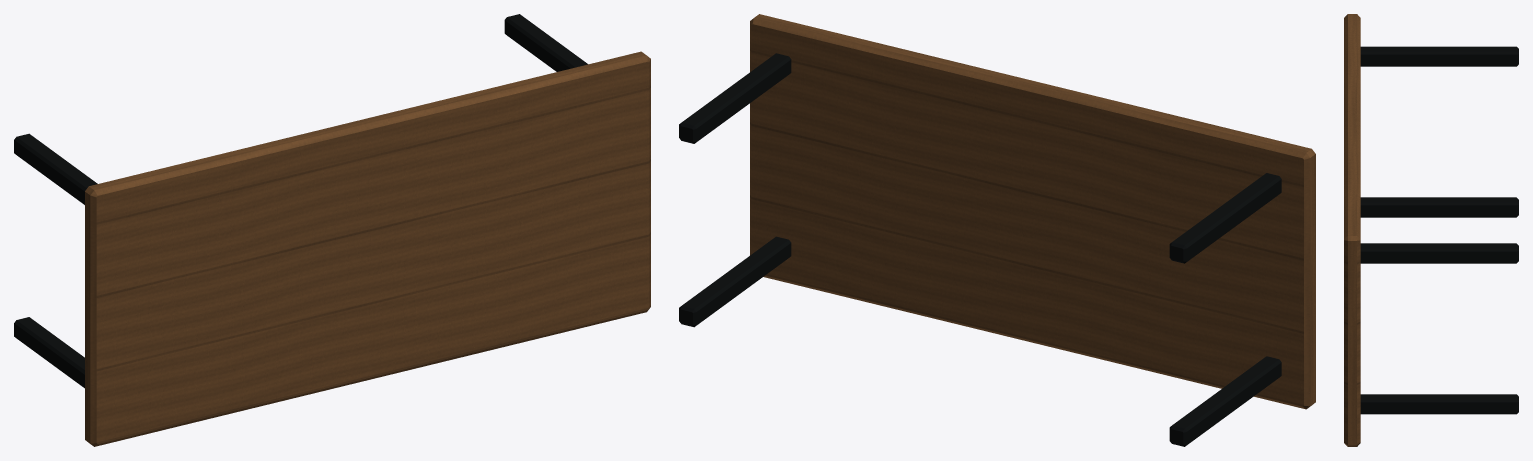
Rendered from dining_table.obj.
3 renders of one model, left to right at view 1: azimuth 30°, elevation 25°; view 2: azimuth 150°, elevation 25°; view 3: azimuth 270°, elevation 25°, orthographic. The views are drawn at different scales.
Visible parts, largest first — view 1: dining_table_oak, dining_table_frame; view 2: dining_table_oak, dining_table_frame; view 3: dining_table_frame, dining_table_oak.
Boxes of the visible parts, box(x1,y1,x2,y2) form: dining_table_oak: box(85, 51, 650, 446); dining_table_frame: box(14, 14, 587, 388); dining_table_oak: box(750, 14, 1315, 409); dining_table_frame: box(679, 53, 1281, 446); dining_table_frame: box(1360, 46, 1518, 414); dining_table_oak: box(1344, 14, 1360, 446).
Size of the model in its own units: 96 by 42 by 31.5.
Materials: 2 (2 with a texture image).
